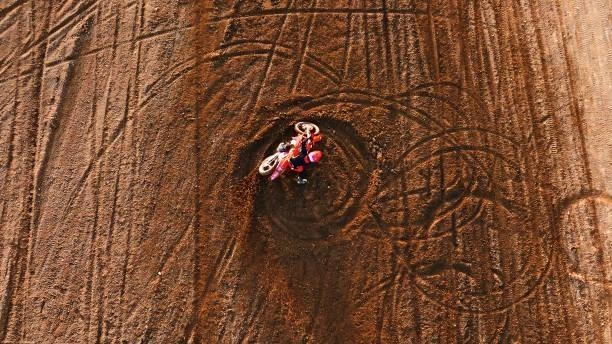Motorcycle: (253, 118, 333, 184)
